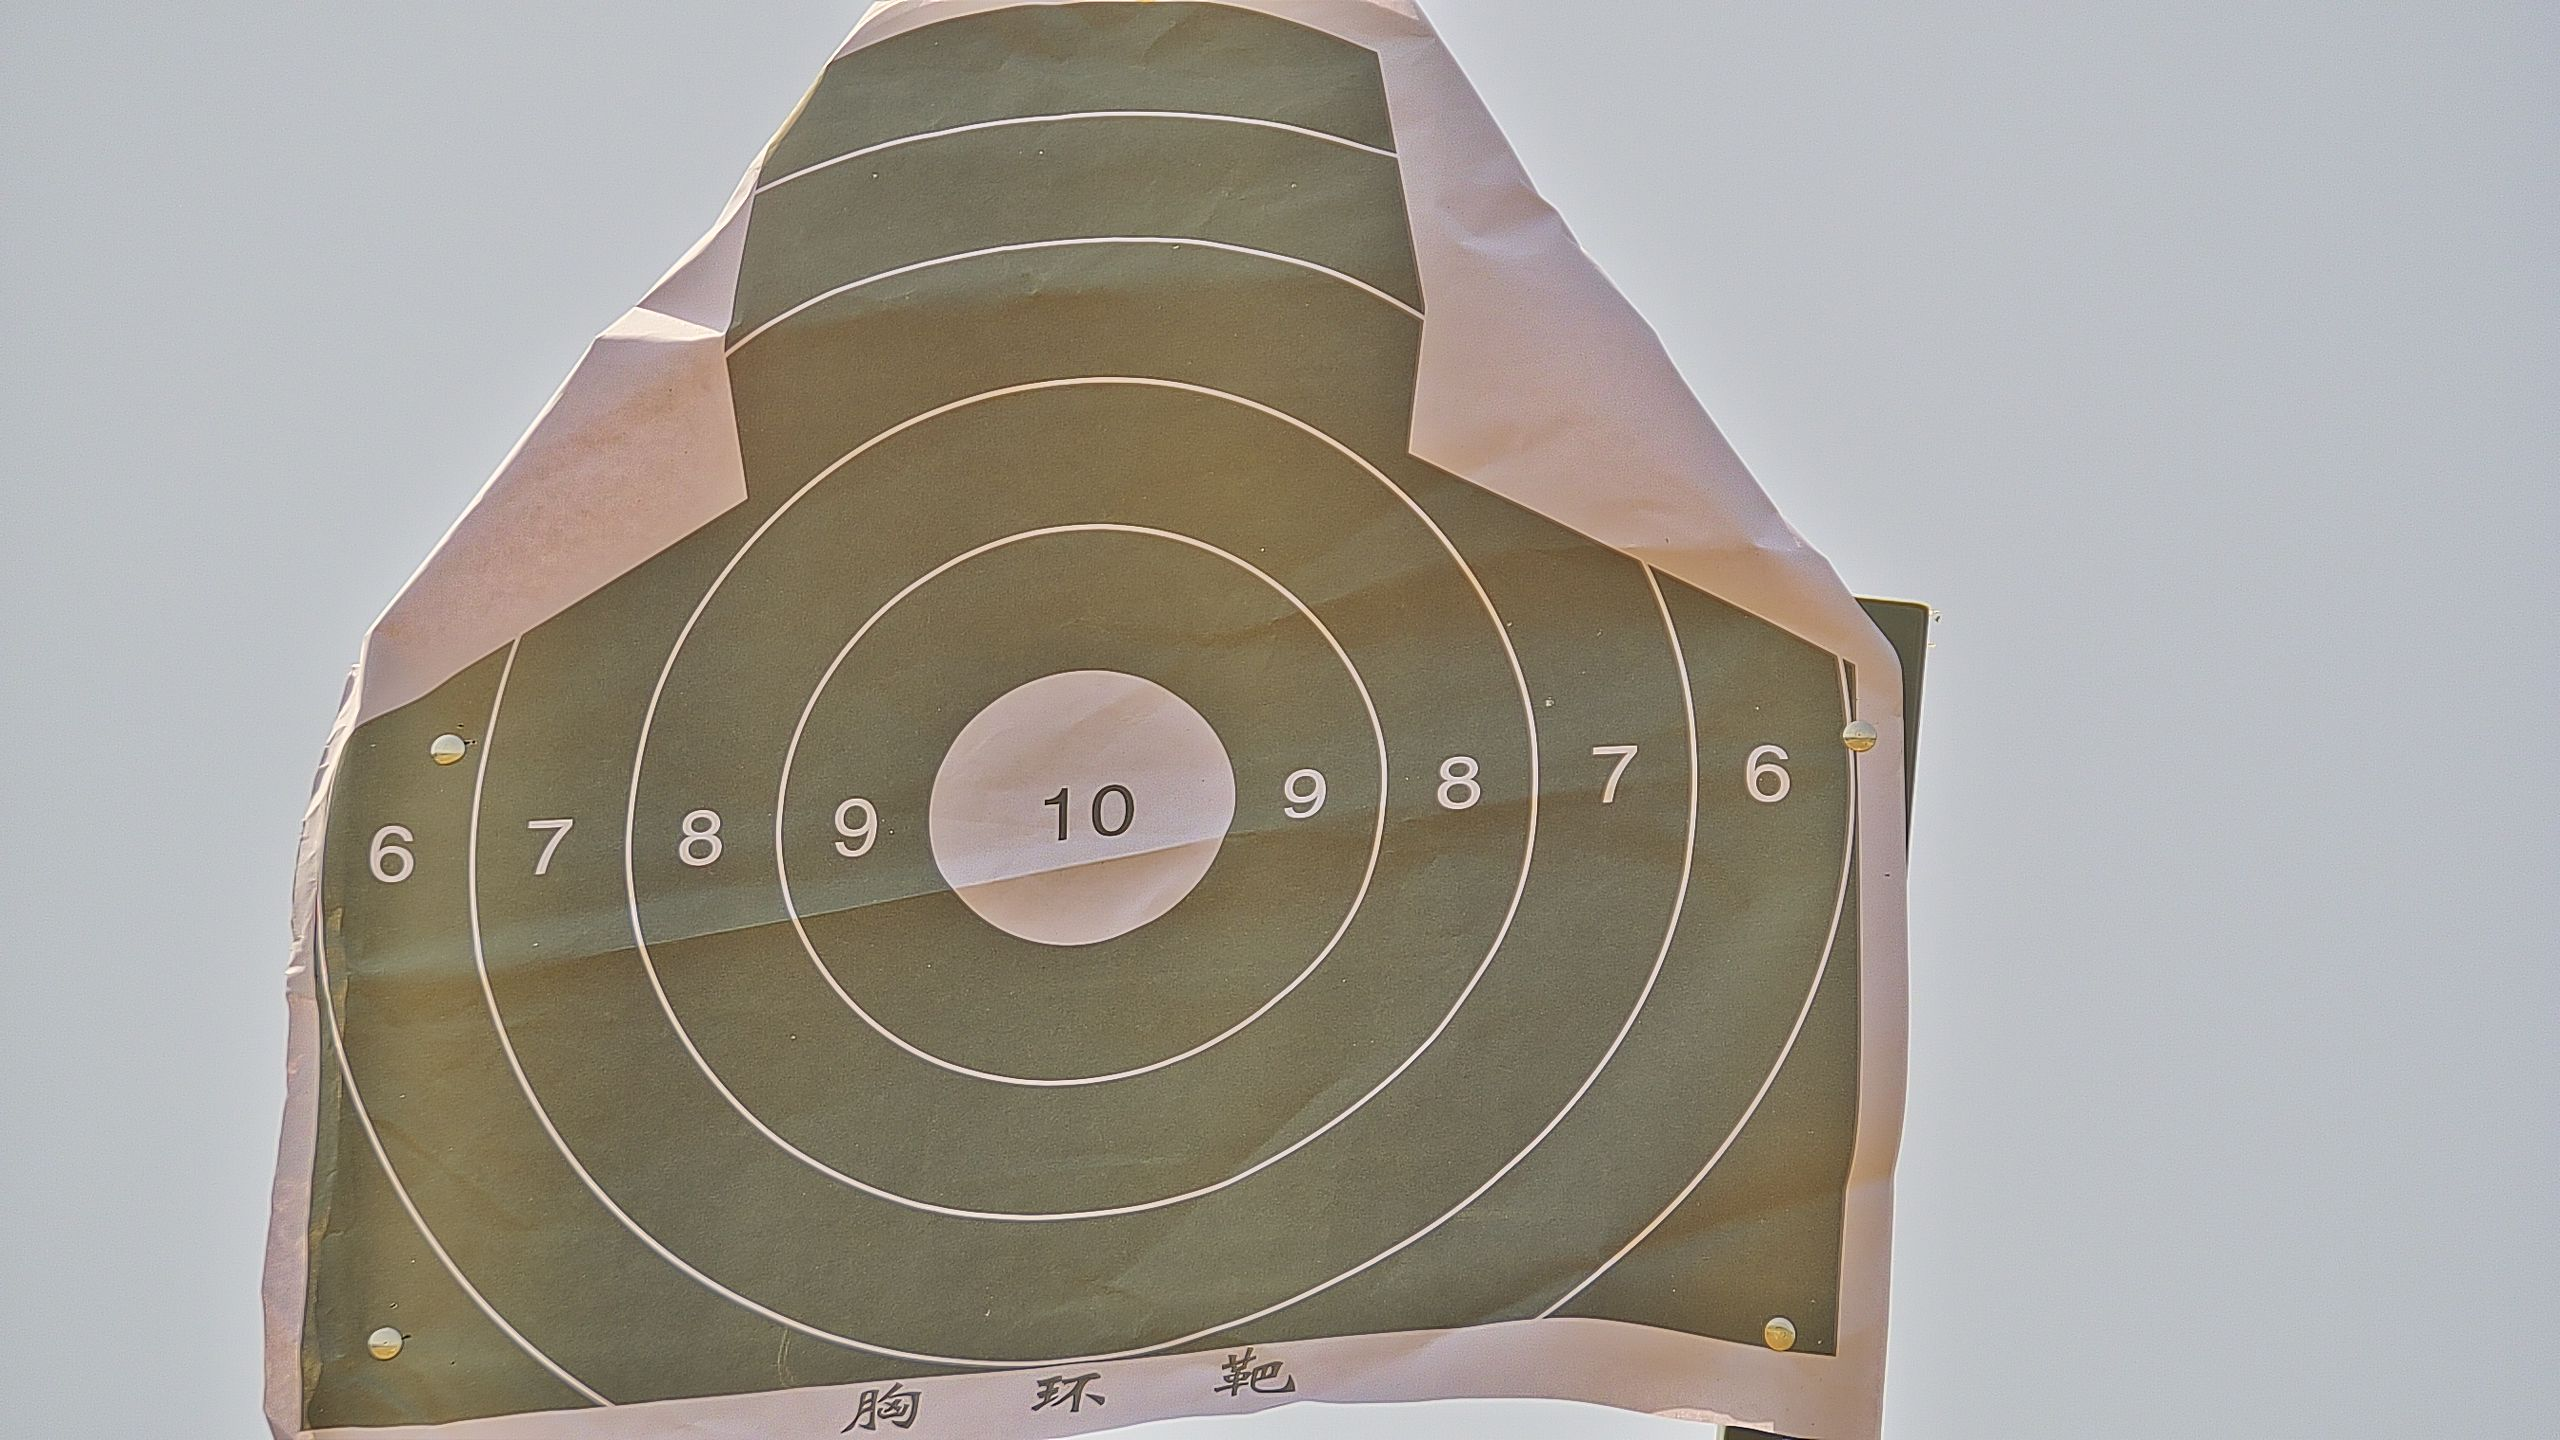kernel: (1076, 818, 1087, 819)
target: (301, 2, 1876, 1440)
ten: (927, 673, 1234, 946)
